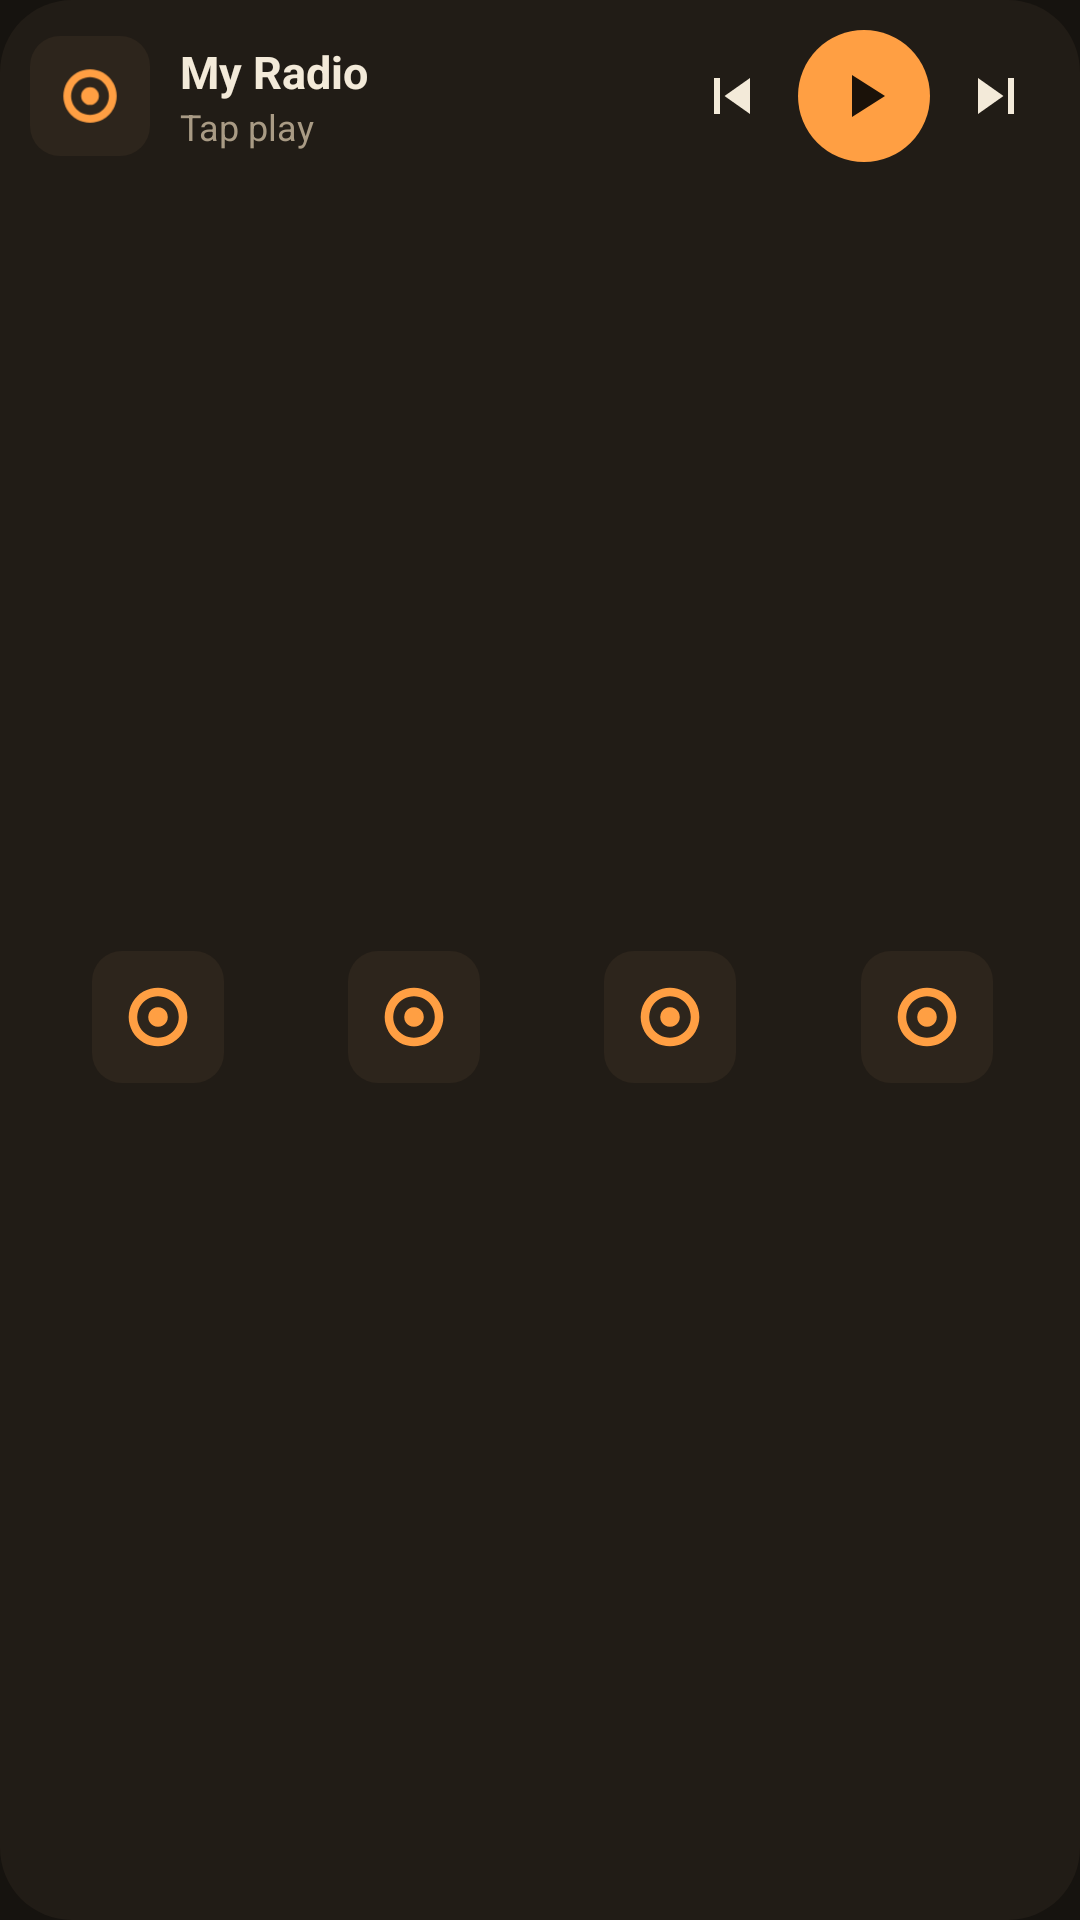

Point at icon controls on the screen. Image size 1080*1920, points as (x=x, y=y).
Next station: (x=996, y=96)
Play or pause: (x=864, y=96)
Previous station: (x=732, y=96)
